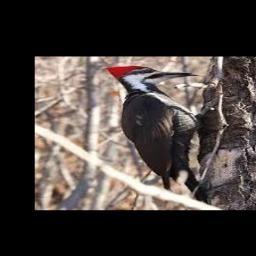Woodpecker: (106, 66, 204, 204)
